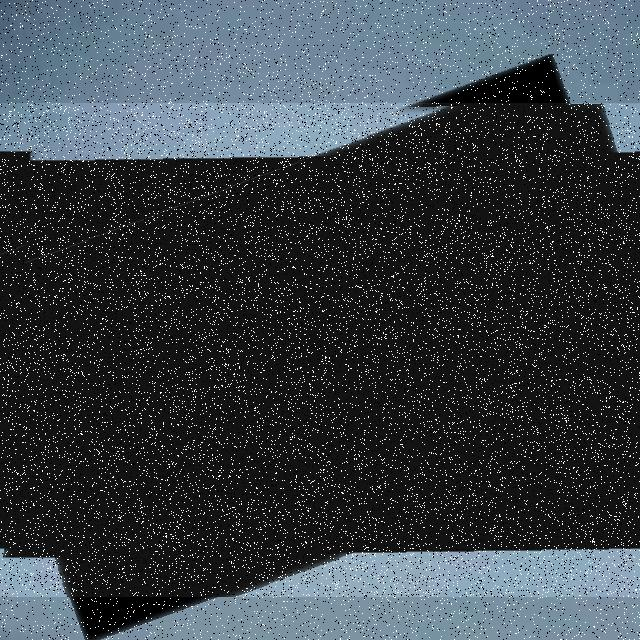dua ribu rupiah: (0, 103, 640, 597)
